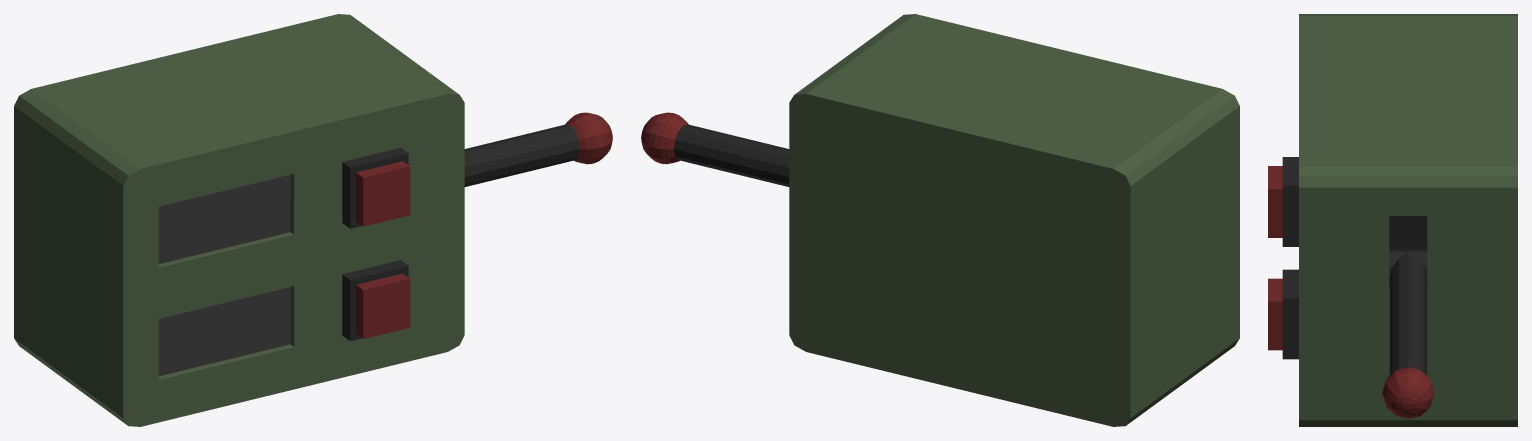
Rendered from HumidTempController.fbx.
3 views of the same model, side by side, from view 1: azimuth 30°, elevation 25°; view 2: azimuth 150°, elevation 25°; view 3: azimuth 270°, elevation 25° (orthographic).
Visible parts, largest first — view 1: controlBox, lever, tempButton, humidButton; view 2: controlBox, lever; view 3: controlBox, lever, tempButton, humidButton.
Part boxes in pixels (x1,y1,x2,y2): controlBox: [14, 14, 464, 426]; lever: [464, 112, 612, 186]; tempButton: [356, 273, 410, 338]; humidButton: [356, 161, 410, 226]; controlBox: [789, 14, 1239, 426]; lever: [641, 112, 789, 186]; controlBox: [1282, 14, 1517, 426]; lever: [1382, 250, 1434, 418]; tempButton: [1268, 278, 1282, 350]; humidButton: [1268, 166, 1282, 237].
Bounding box in the file's own units: 99.34 × 45.3 × 39.68.
